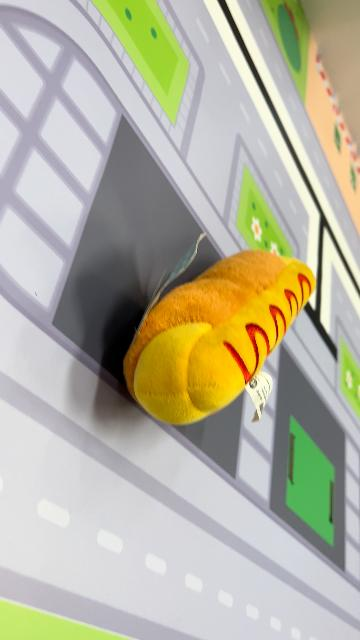hotdog: (122, 247, 318, 428)
